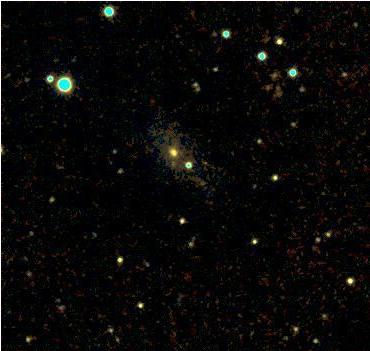star: (158, 147, 188, 177)
